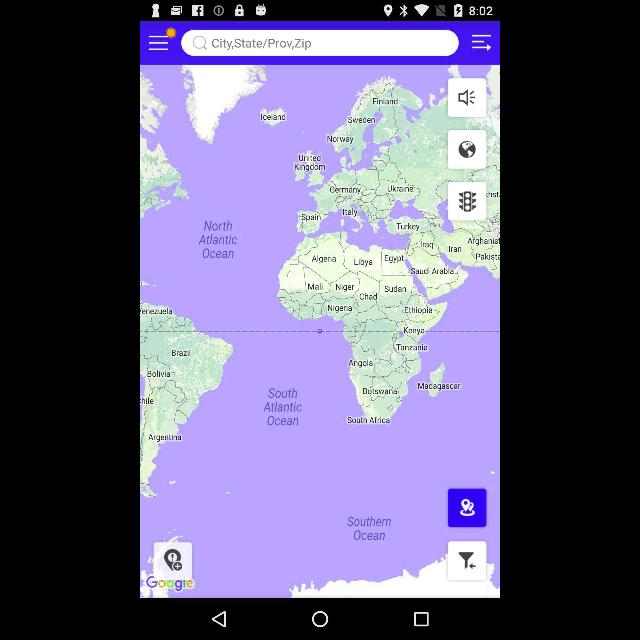icon: (472, 34, 492, 51), (148, 35, 168, 51), (312, 611, 328, 627), (212, 611, 226, 627), (194, 36, 208, 52), (414, 612, 428, 626)
input: (182, 30, 458, 56)
map: (140, 65, 500, 598)
panel: (140, 598, 500, 640)
text: (213, 38, 314, 50)
toolbar: (140, 22, 500, 64)
uppertaskbar: (141, 1, 499, 21)
